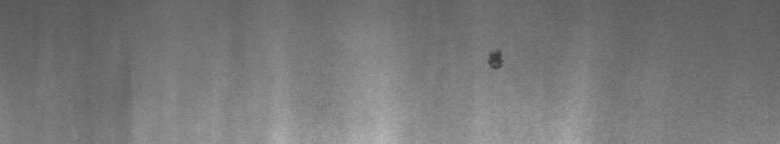fi: (484, 44, 509, 76)
